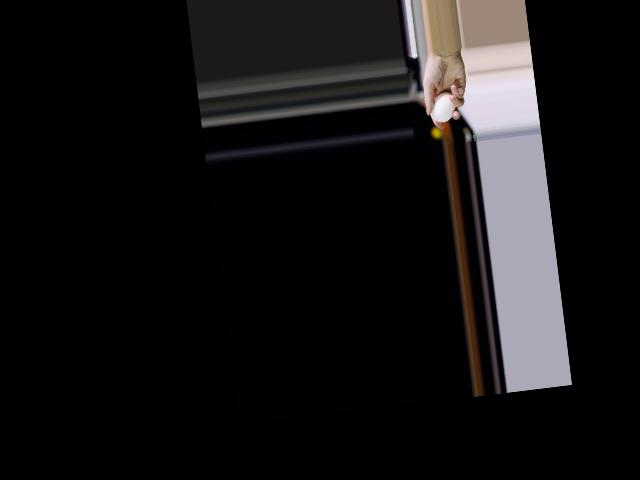egg: (429, 91, 457, 124)
